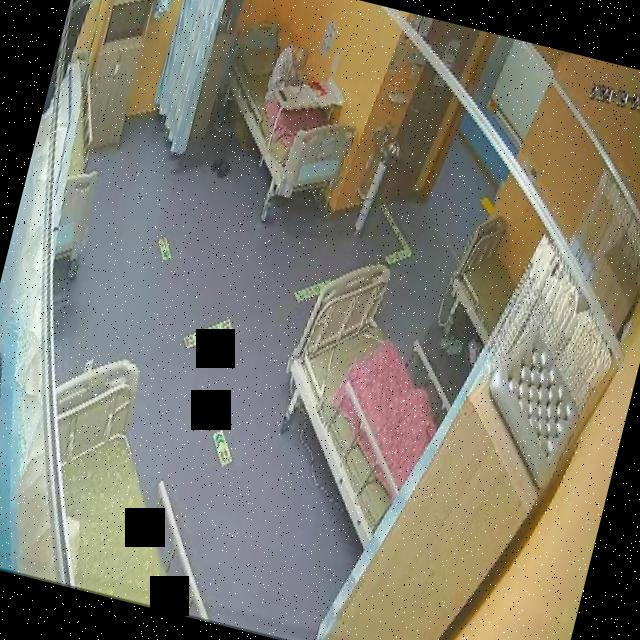bed: (8, 348, 262, 622), (252, 250, 470, 556), (196, 13, 377, 211), (438, 208, 531, 350)
patient: (262, 30, 318, 111)
sit: (262, 32, 315, 114)
